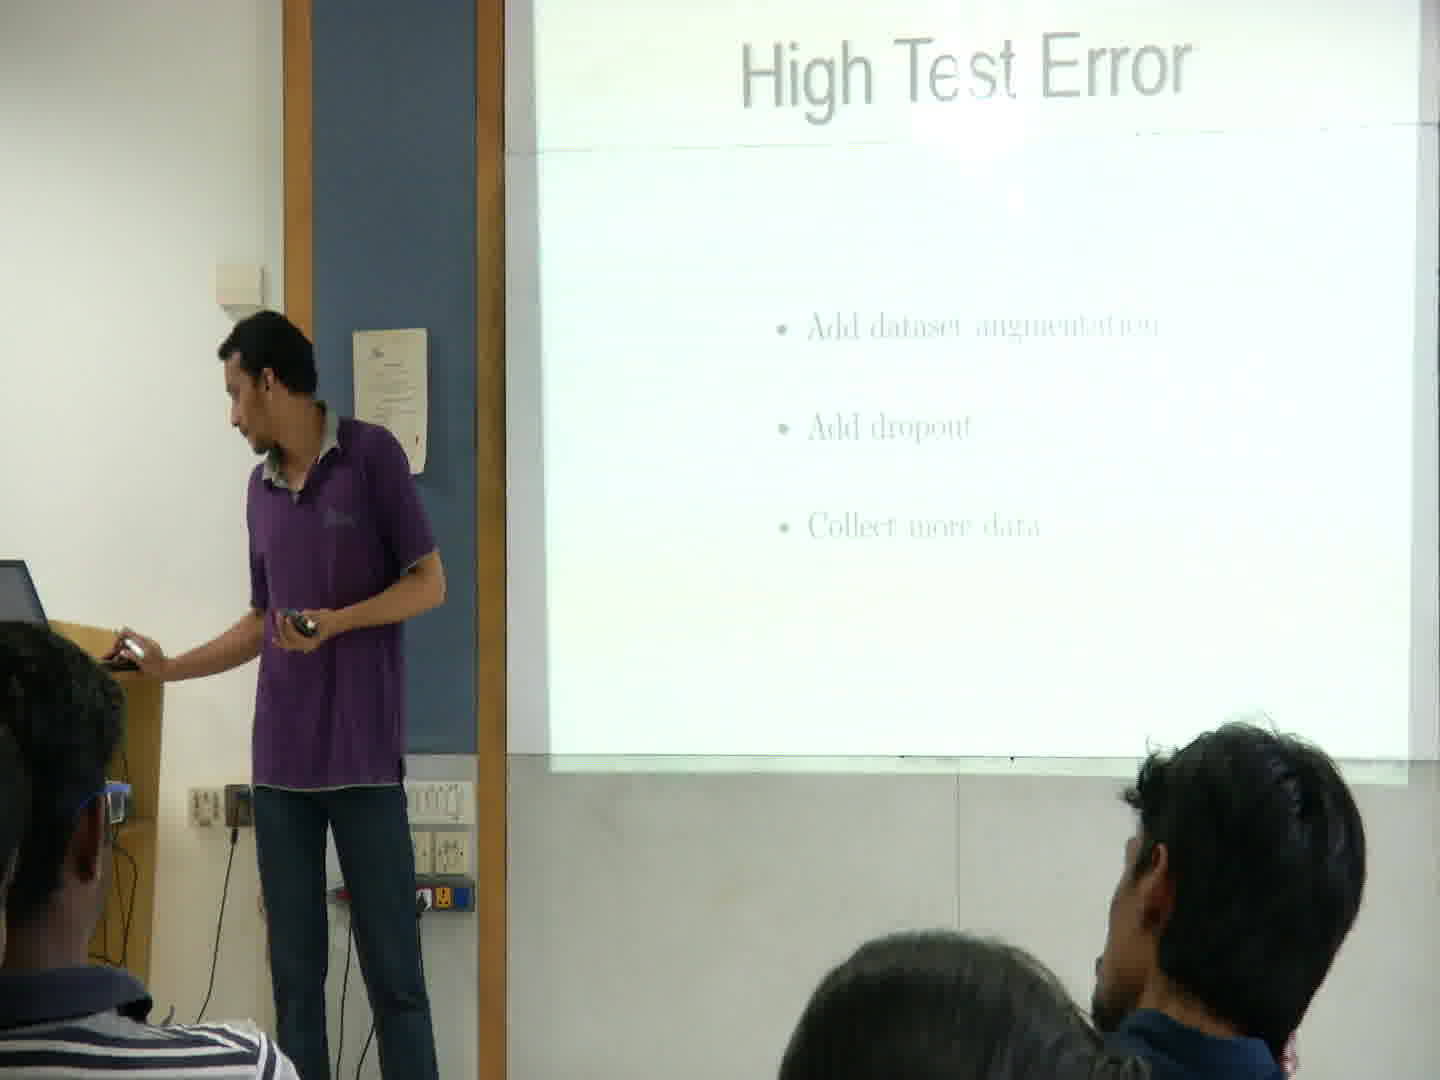slide: (531, 1, 1408, 779)
